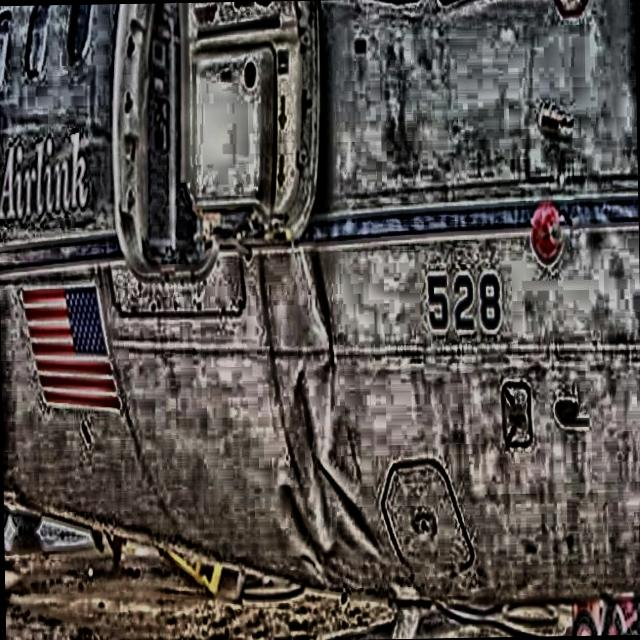dent: (257, 242, 388, 570)
